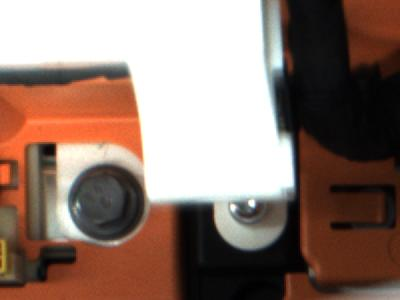nut_b: (65, 163, 142, 241)
